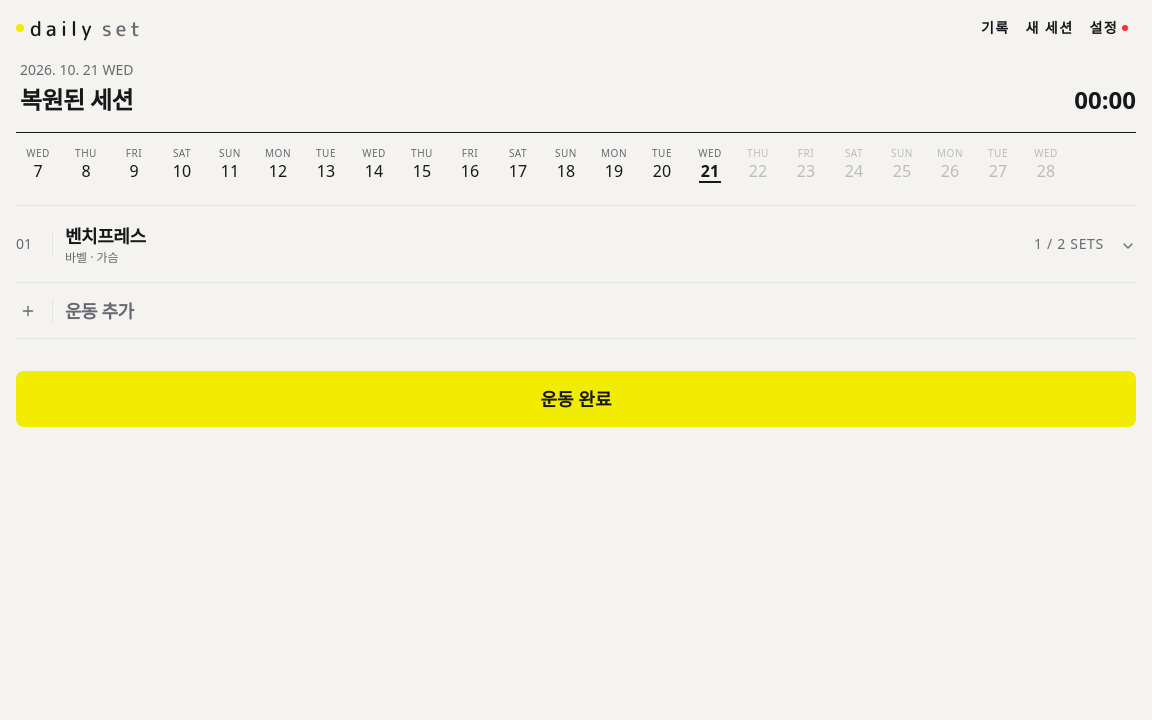
Test case: RootClient — 운동 완료 › 완료한 세트만 history에 저장하고 draft를 지운 뒤 라이브러리로 돌아간다
This screenshot has width=1152, height=720.
Click the button "운동 완료": (576, 399) top-left (16, 371), bottom-right (1136, 427)
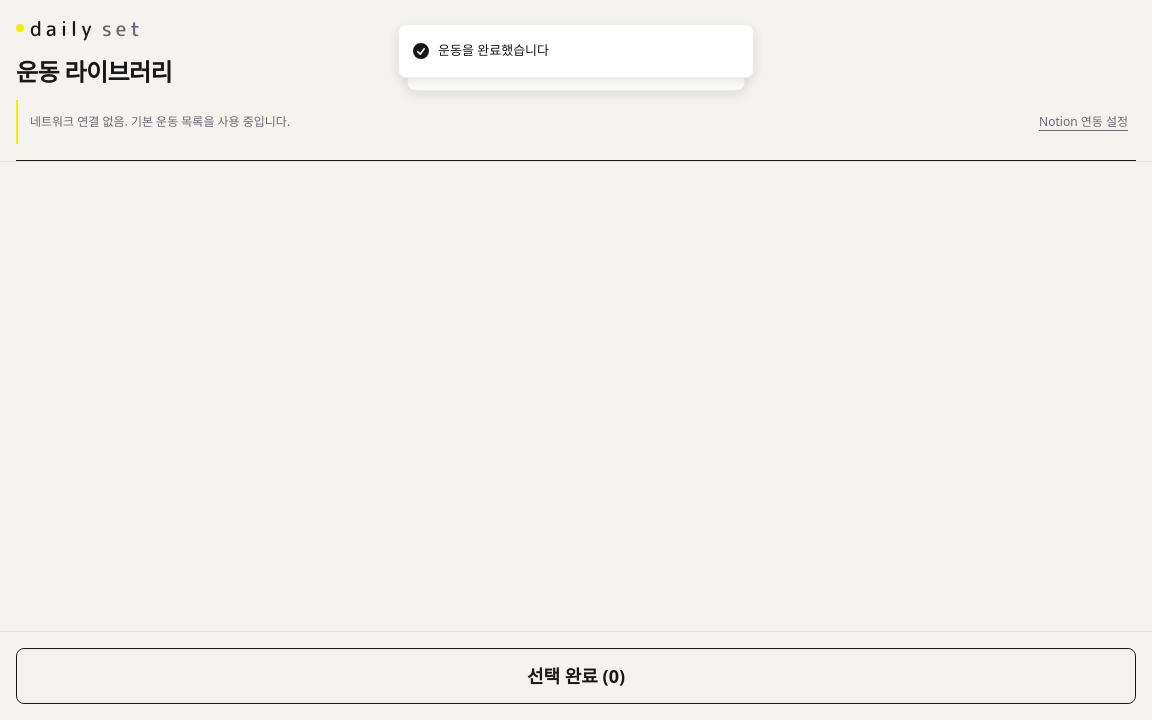
expect the heading "운동 라이브러리" is shown: met, box top-left (16, 55), bottom-right (172, 88)
expect the text "운동을 완료했습니다" is shown: met, box top-left (438, 41), bottom-right (549, 60)
